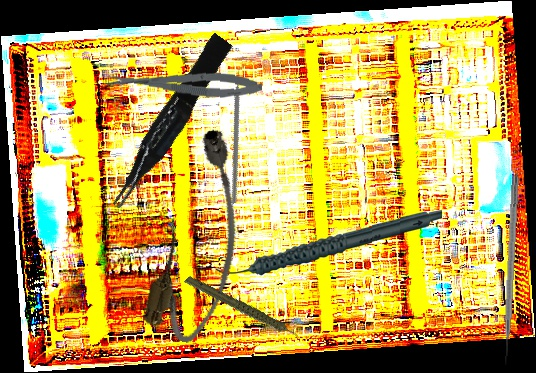Cannula: (138, 123, 266, 349)
Chopper: (174, 62, 307, 205)
Handpiece: (214, 209, 444, 278), (183, 255, 303, 365)
Hook Surgical: (500, 175, 519, 366)
Micro Scissor: (106, 64, 263, 102)
Tissue Forceps: (97, 32, 241, 212)
